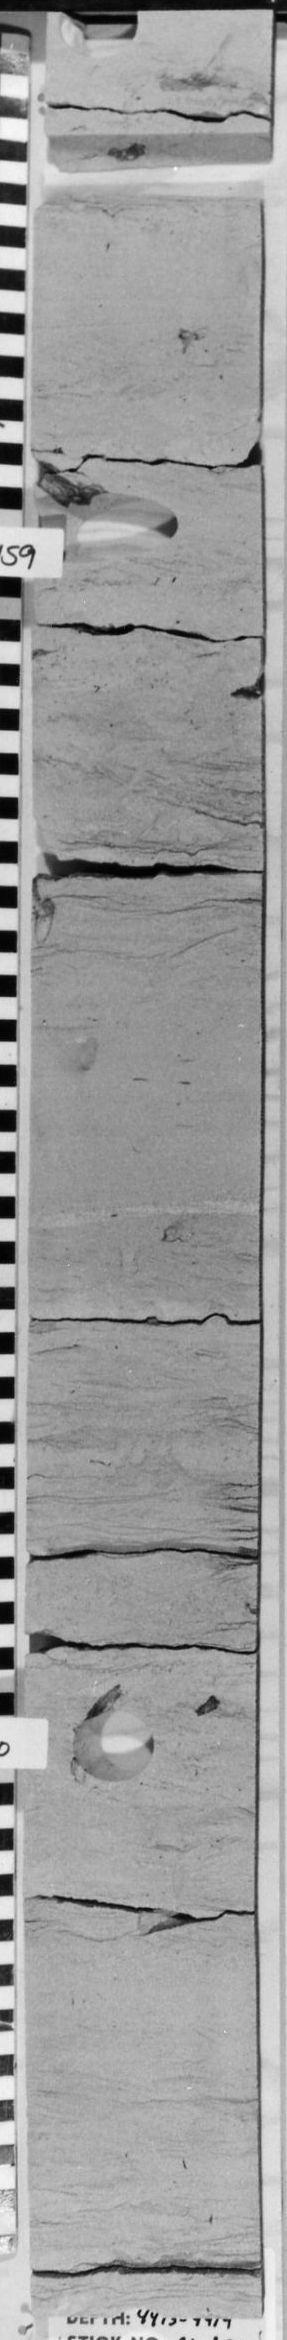hplug: (40, 481, 187, 563), (58, 1701, 163, 1785), (51, 13, 152, 63)
scal: (46, 125, 262, 231)
